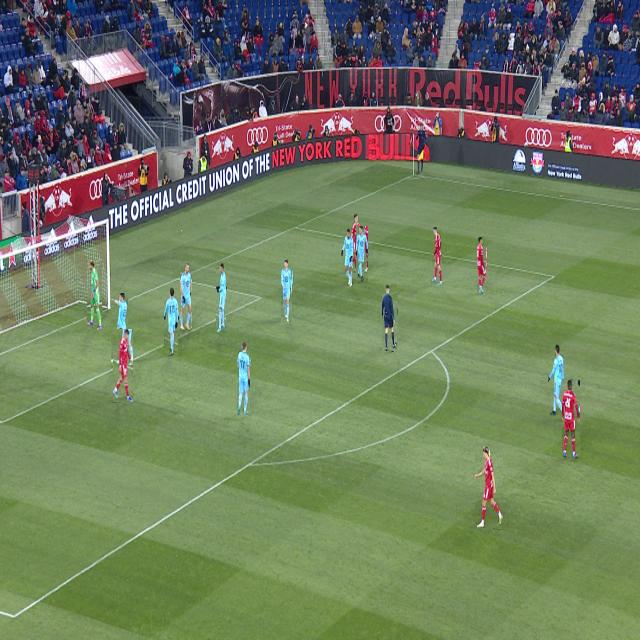goalkeeper: (88, 260, 102, 330)
player: (475, 447, 503, 528), (113, 330, 133, 402), (562, 380, 580, 457), (548, 345, 565, 416), (112, 293, 128, 364), (238, 342, 250, 415), (165, 288, 178, 355), (181, 263, 191, 330), (356, 227, 368, 281), (342, 229, 353, 286), (282, 260, 292, 322), (217, 264, 226, 332), (432, 227, 442, 286), (351, 215, 360, 273), (478, 238, 486, 293)
referee: (382, 286, 397, 351)
